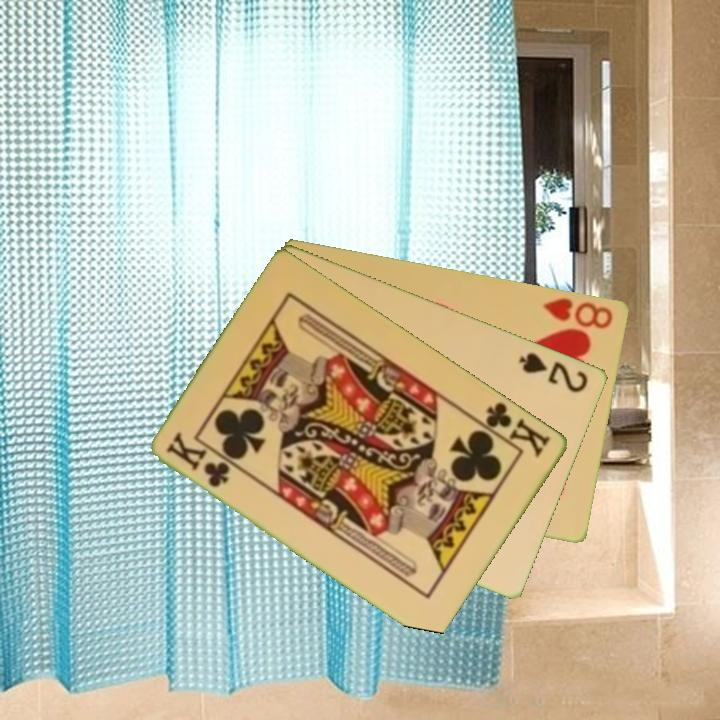2s: (515, 348, 592, 395)
8h: (540, 293, 616, 332)
Kc: (474, 398, 554, 461), (163, 429, 234, 491)
